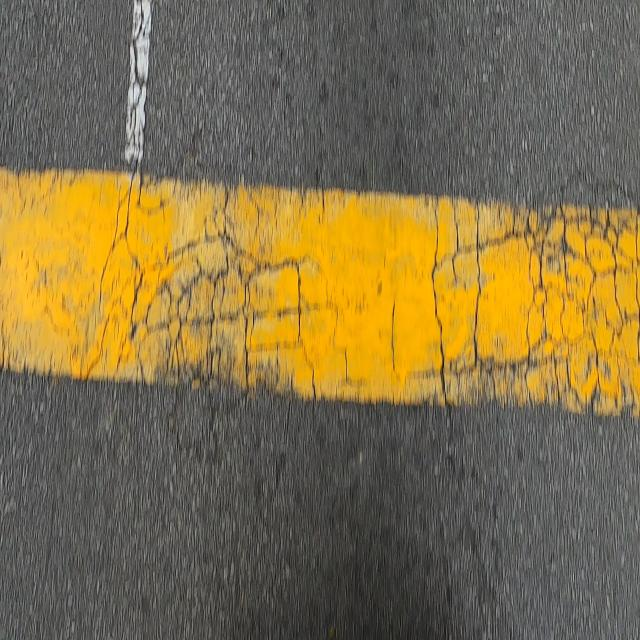Retak-Buaya: (74, 172, 375, 402), (430, 194, 640, 420)
Retak-Memanjang: (118, 0, 154, 168)
